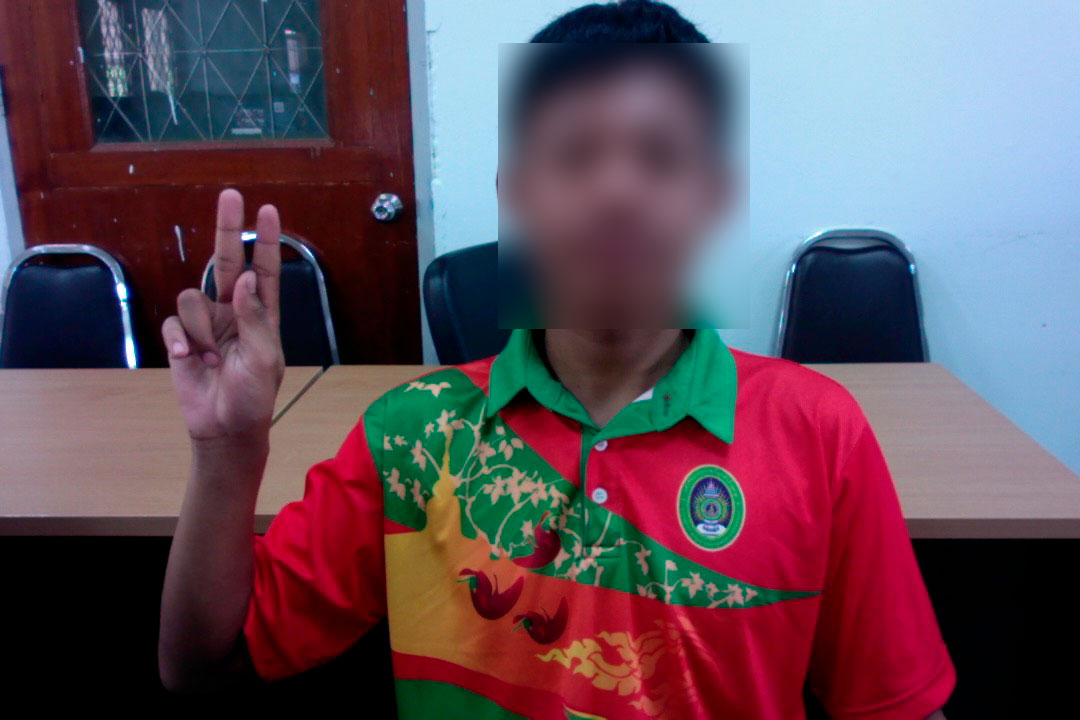ko: (161, 183, 296, 466)
